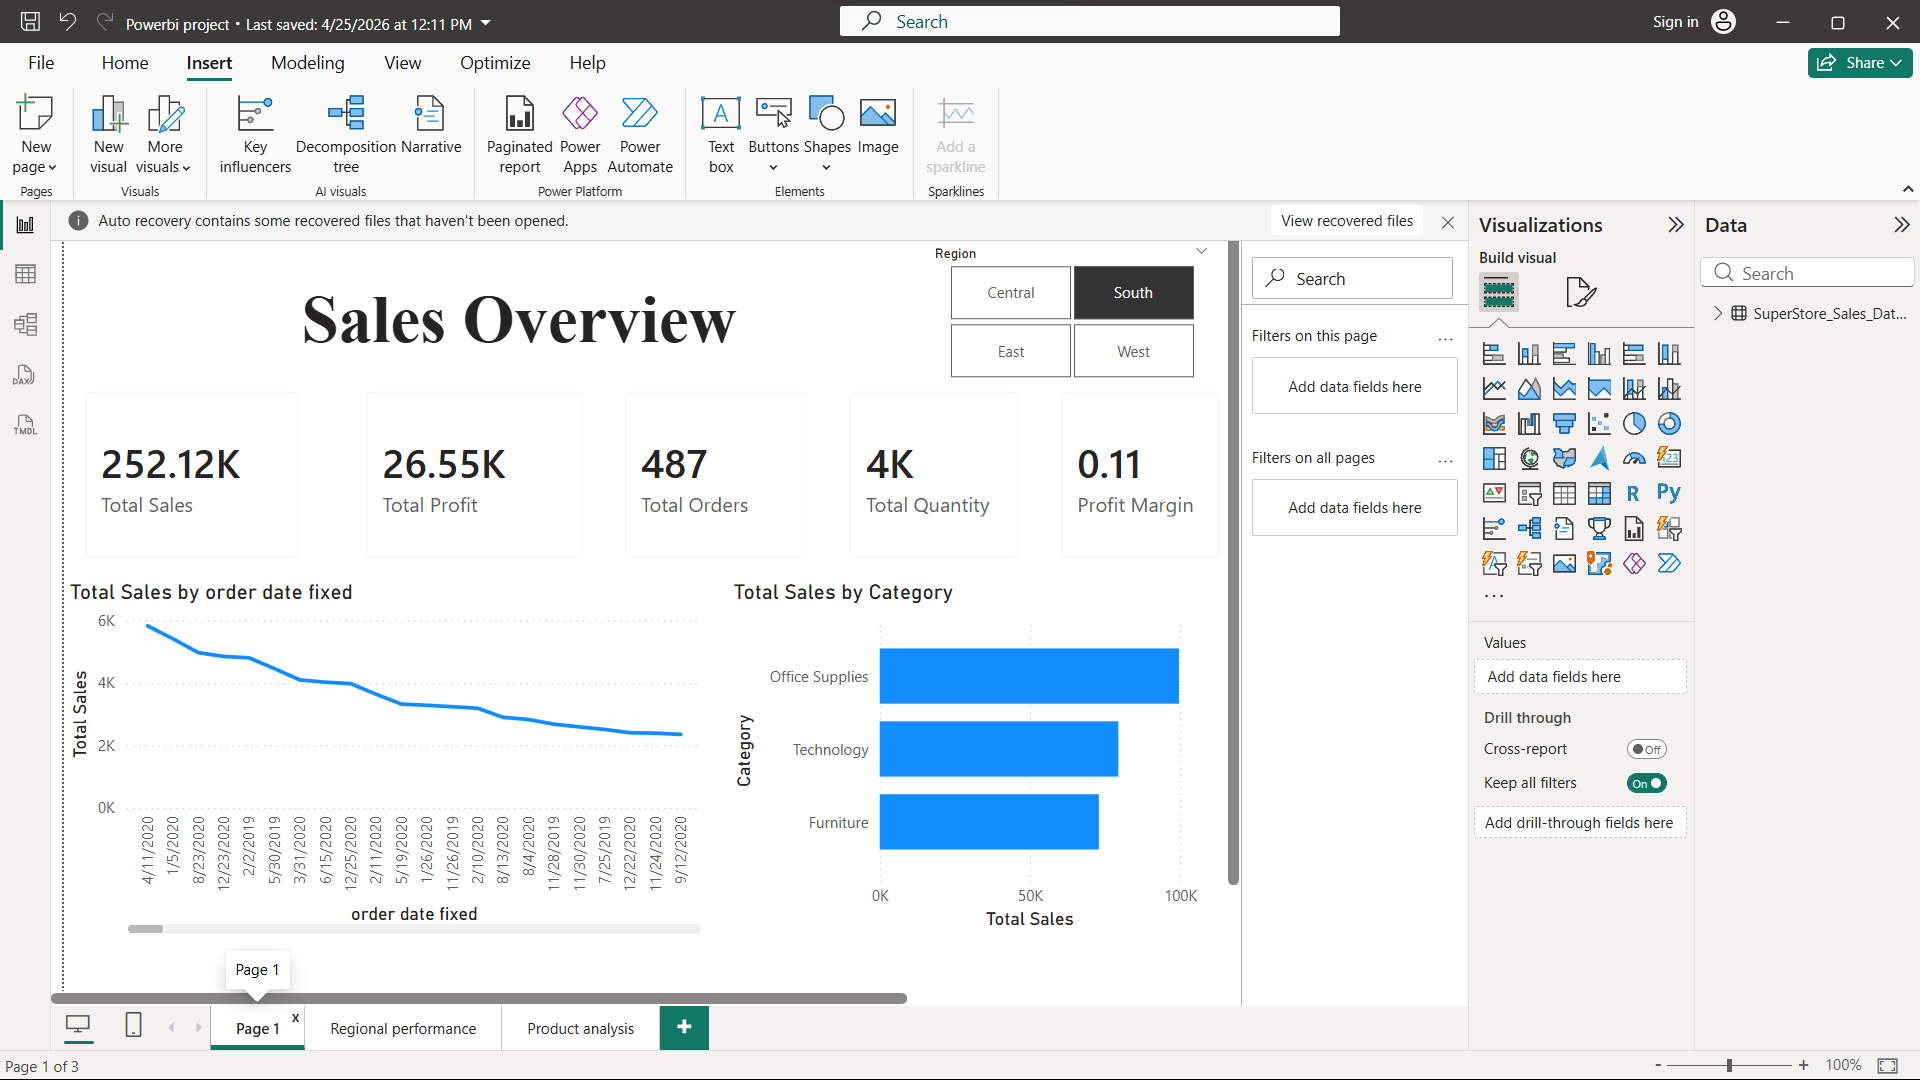

The page's visual inventory and layout, read from the dashboard file:
{"tool":"powerbi","page":{"name":"Sales","canvas":[1280,720],"ordinal":0},"visuals":[{"type":"cardVisual","fields":{"Data":["SuperStore_Sales_Dataset.Total Orders"]},"box":[432,126,180,167],"z":0},{"type":"cardVisual","fields":{"Data":["SuperStore_Sales_Dataset.Total Profit"]},"box":[225,126,207,167],"z":1000},{"type":"cardVisual","fields":{"Data":["SuperStore_Sales_Dataset.Total Quantity"]},"box":[612,126,169,167],"z":2000},{"type":"cardVisual","fields":{"Data":["SuperStore_Sales_Dataset.Total Sales"]},"box":[0,126,205,167],"z":3000},{"type":"cardVisual","fields":{"Data":["SuperStore_Sales_Dataset.Profit Margin"]},"box":[781,126,161,167],"z":4000},{"type":"lineChart","fields":{"Y":["SuperStore_Sales_Dataset.Total Sales"],"Category":["SuperStore_Sales_Dataset.order date fixed"]},"box":[0,293,515,289],"z":5000},{"type":"clusteredBarChart","fields":{"Y":["SuperStore_Sales_Dataset.Total Sales"],"Category":["SuperStore_Sales_Dataset.Category"]},"box":[531,293,381,285],"z":6000},{"type":"slicer","fields":{"Values":["SuperStore_Sales_Dataset.Region"]},"box":[684,21,244,118],"z":7000},{"type":"textbox","box":[12,50,672,89],"z":8000}]}

Visuals, with their boxes on the page's 1280x720 design canvas (x1, y1, x2, y2). These are canvas units, not pixel positions in the 1920x1080 screenshot, which may show the page scaled, cropped or inside an application window:
cardVisual - SuperStore_Sales_Dataset.Total Orders: 432 126 612 293
cardVisual - SuperStore_Sales_Dataset.Total Profit: 225 126 432 293
cardVisual - SuperStore_Sales_Dataset.Total Quantity: 612 126 781 293
cardVisual - SuperStore_Sales_Dataset.Total Sales: 0 126 205 293
cardVisual - SuperStore_Sales_Dataset.Profit Margin: 781 126 942 293
lineChart - SuperStore_Sales_Dataset.Total Sales x SuperStore_Sales_Dataset.order date fixed: 0 293 515 582
clusteredBarChart - SuperStore_Sales_Dataset.Total Sales x SuperStore_Sales_Dataset.Category: 531 293 912 578
slicer - SuperStore_Sales_Dataset.Region: 684 21 928 139
textbox: 12 50 684 139
